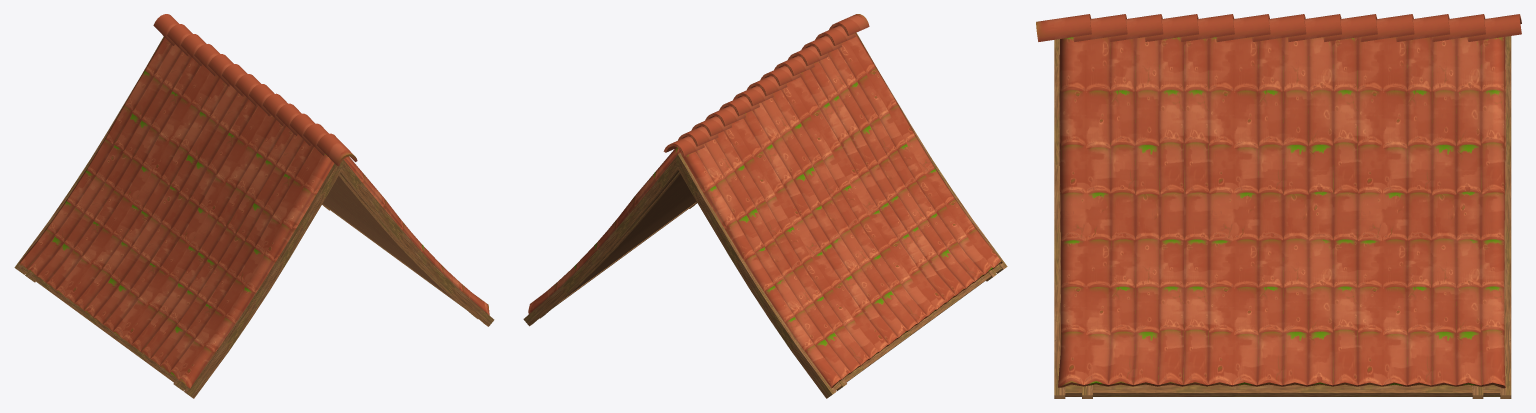
The model's file is Roof_RoundTiles_8x8.gltf.
3 views of the same model, side by side, from view 1: azimuth 30°, elevation 25°; view 2: azimuth 150°, elevation 25°; view 3: azimuth 270°, elevation 25° (orthographic). The views are drawn at different scales.
Parts seen in each view (by area): view 1: Roof_RoundTiles_8x8; view 2: Roof_RoundTiles_8x8; view 3: Roof_RoundTiles_8x8.
Part boxes in pixels (x1,y1,x2,y2): Roof_RoundTiles_8x8: [14, 14, 494, 398]; Roof_RoundTiles_8x8: [523, 14, 1007, 398]; Roof_RoundTiles_8x8: [1036, 14, 1521, 398].
Bounding box in the file's own units: 9.95 × 6.78 × 10.33.
2 materials, 2 textured.
